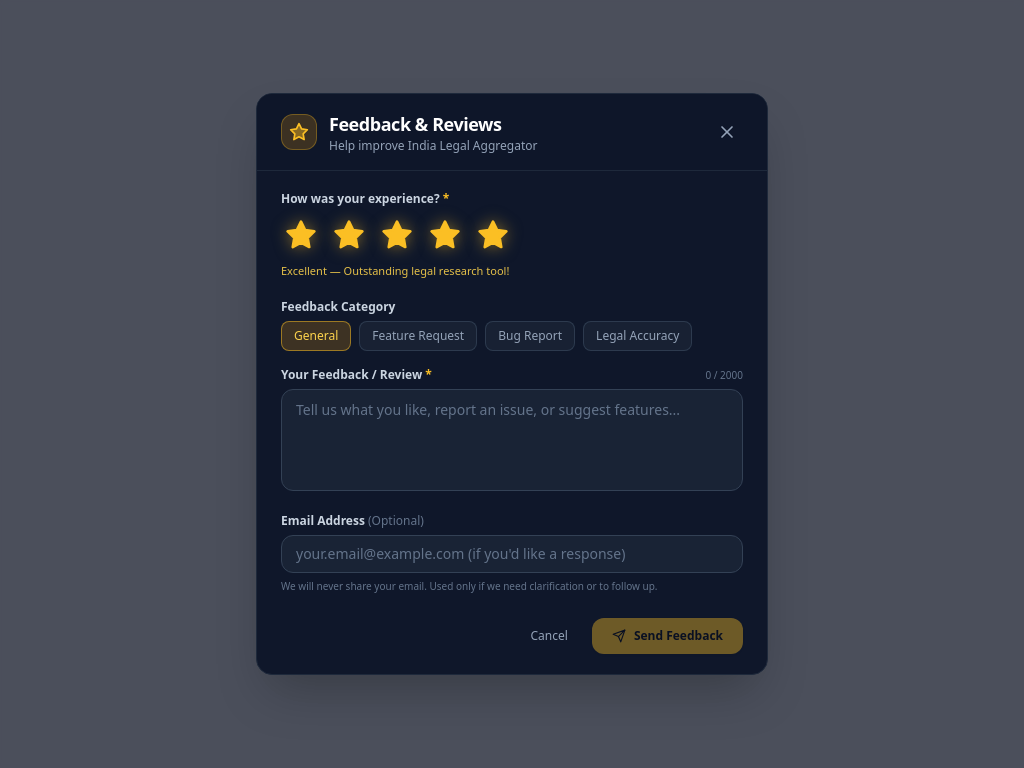
it: FeedbackModal Component › updates selected rating and label on star click
The image size is (1024, 768).
Step 1. Click the button named "rate 3 out of 5 stars" → click(397, 235), box x1=377 y1=215 x2=417 y2=255
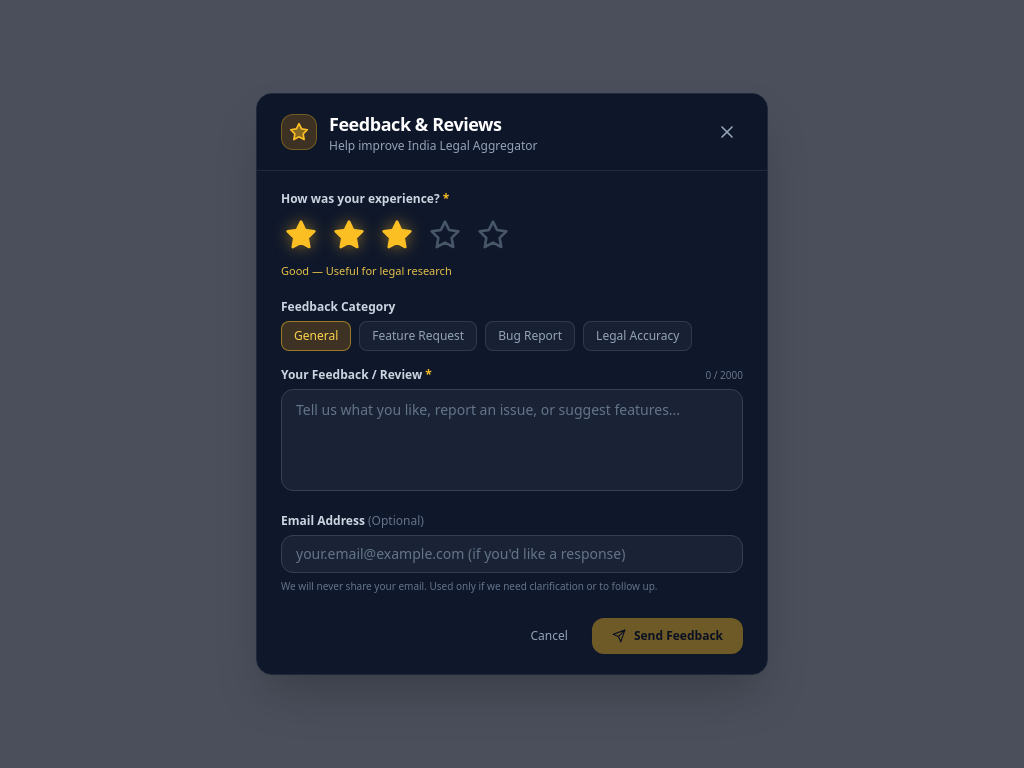
Expected: the text "Good — Useful for legal research" is shown, x1=281 y1=263 x2=452 y2=278
